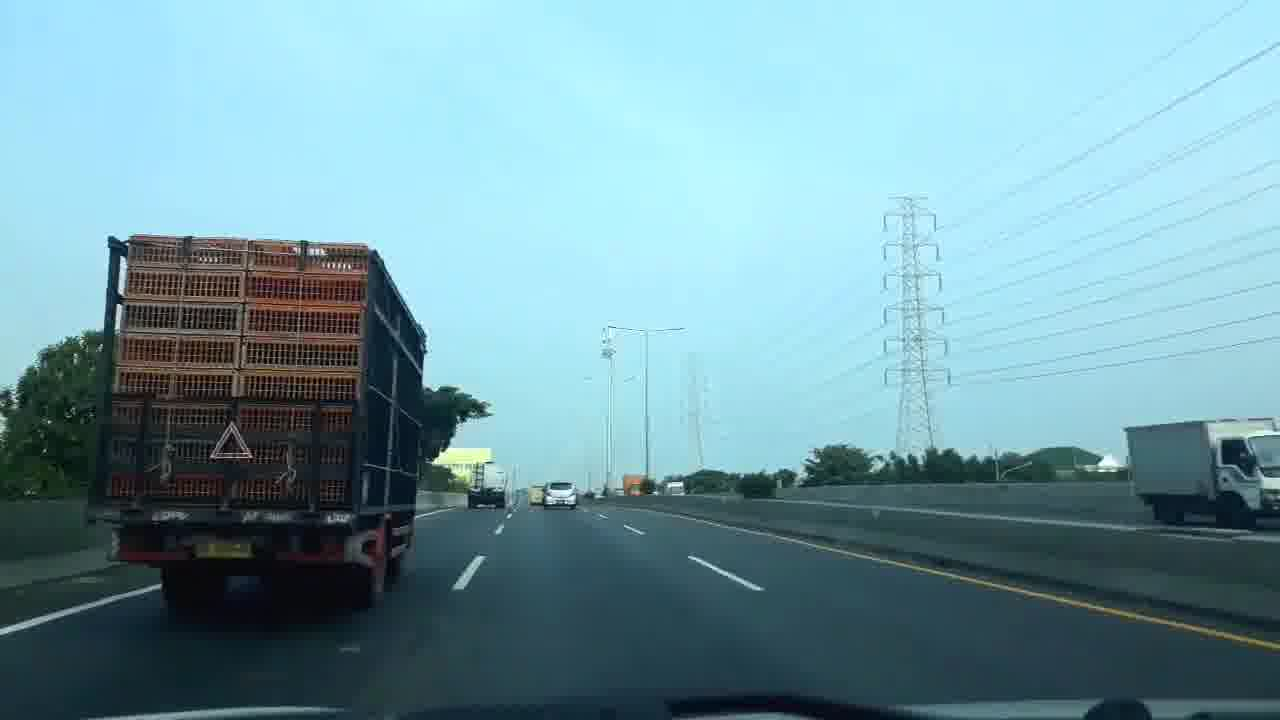plate_positive: (192, 543, 256, 560), (556, 500, 565, 504)
